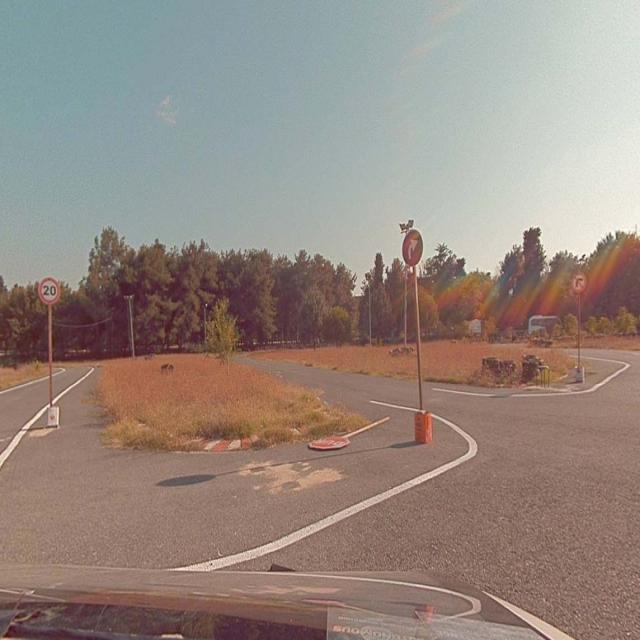20: (39, 276, 59, 304)
sag: (402, 229, 422, 263)
sagadonulmez: (572, 272, 586, 292)
